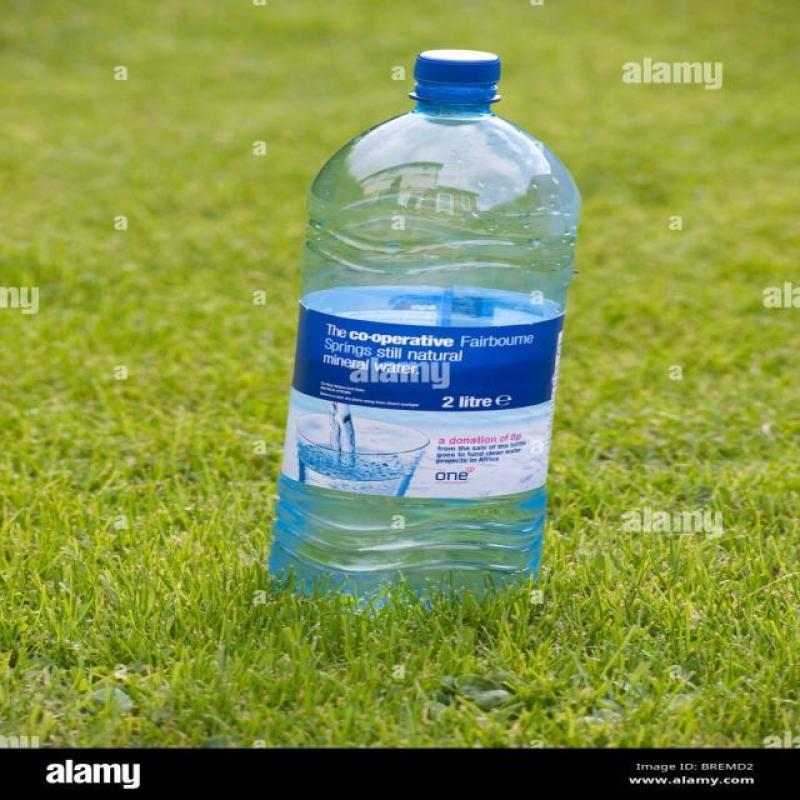botella: (255, 49, 585, 629)
